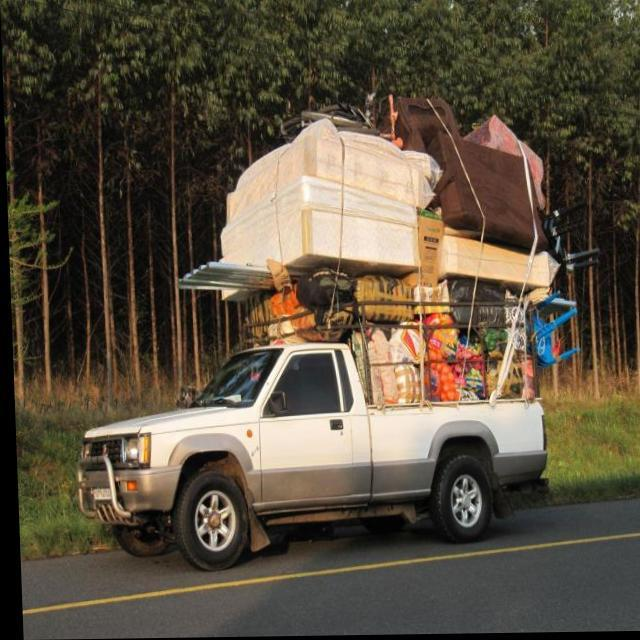uncovered: (222, 96, 576, 538)
